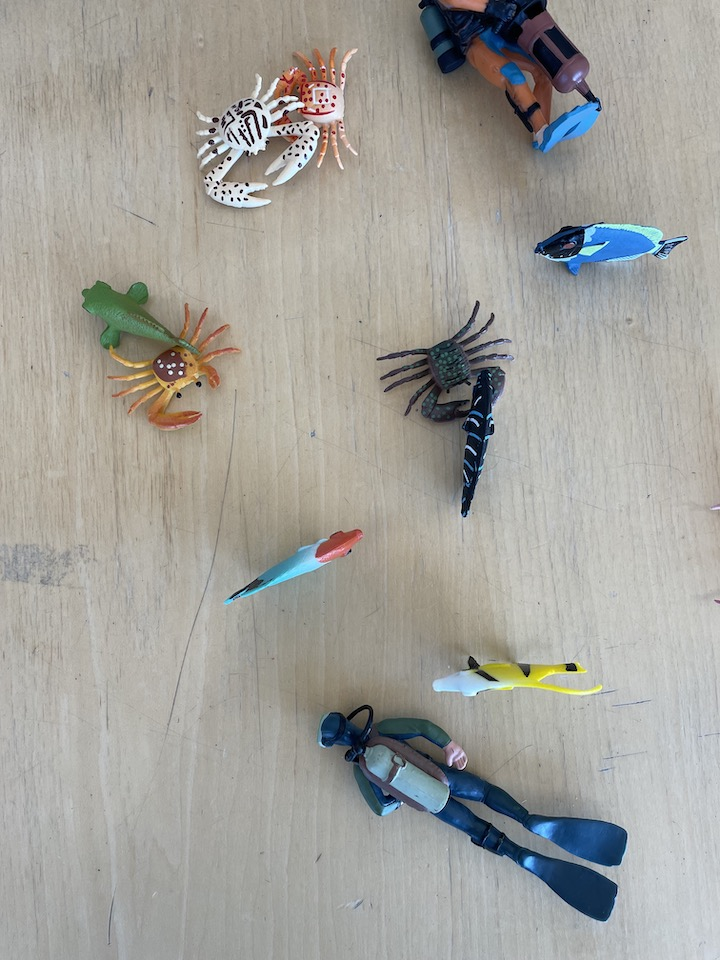crab: (102, 300, 243, 430), (375, 299, 517, 427), (193, 73, 320, 211), (267, 40, 361, 175)
danger: (429, 650, 609, 698)
diver: (314, 701, 635, 929), (414, 1, 605, 154)
fish: (220, 525, 366, 612), (78, 275, 205, 362), (529, 218, 693, 280), (454, 370, 503, 521)
